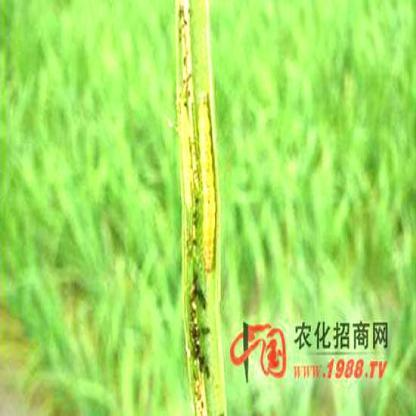leaf-folder: (160, 81, 220, 287)
